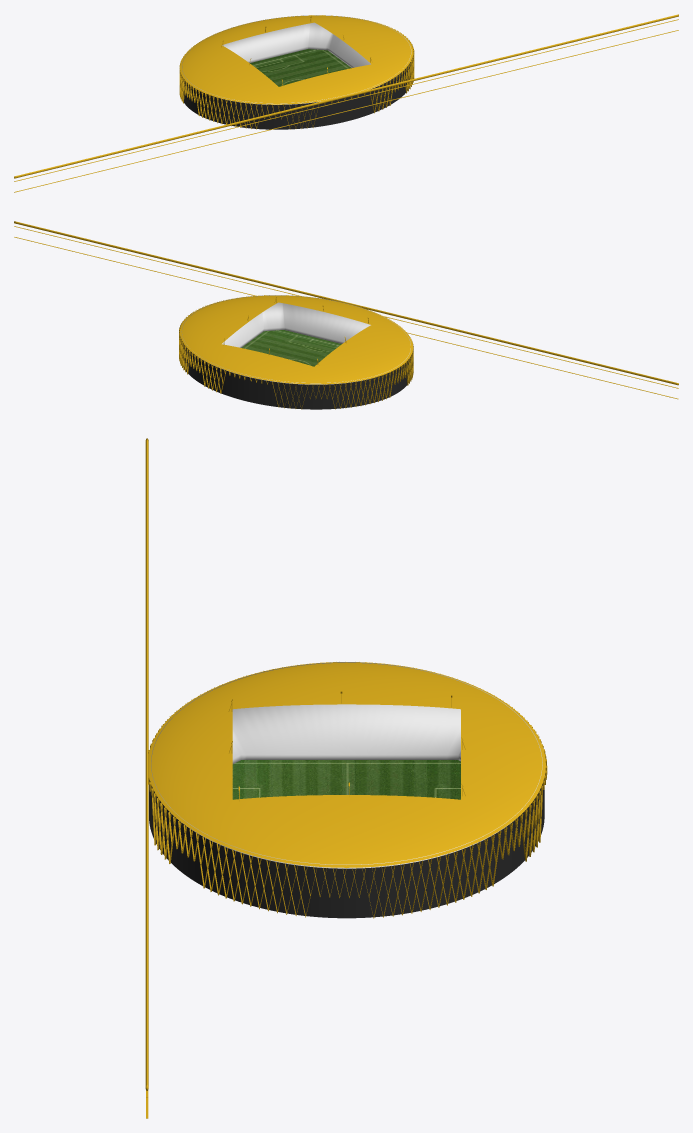
File: stadion.glb
3 views of the same model, one above another, from view 1: azimuth 30°, elevation 25°; view 2: azimuth 150°, elevation 25°; view 3: azimuth 270°, elevation 25° (orthographic). The views are drawn at different scales.
Visible parts, largest first — view 1: Cylinder; view 2: Cylinder; view 3: Cylinder.
Part boxes in pixels (x1,y1,x2,y2): Cylinder: [14, 14, 678, 192]; Cylinder: [14, 221, 678, 409]; Cylinder: [145, 438, 547, 1118].
Bounding box in the file's own units: 60.74 × 3.44 × 15.89.
Materials: 4 (1 with a texture image).
